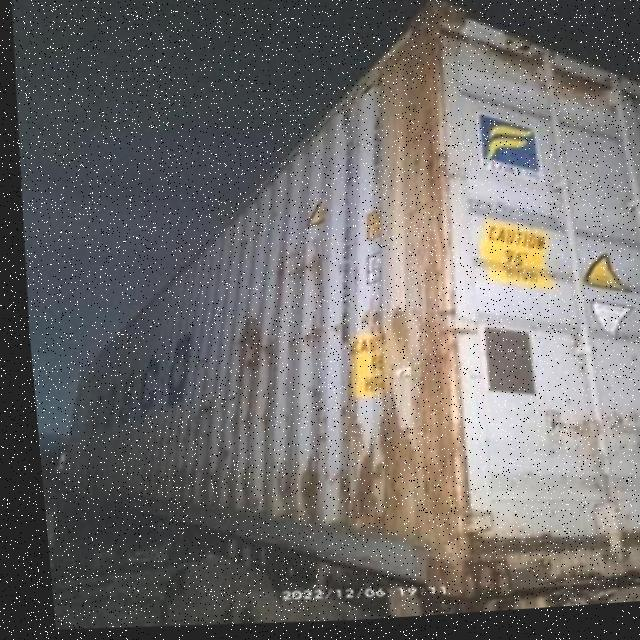rust: (345, 4, 511, 607), (334, 428, 398, 549), (265, 465, 314, 531), (232, 322, 271, 389)
